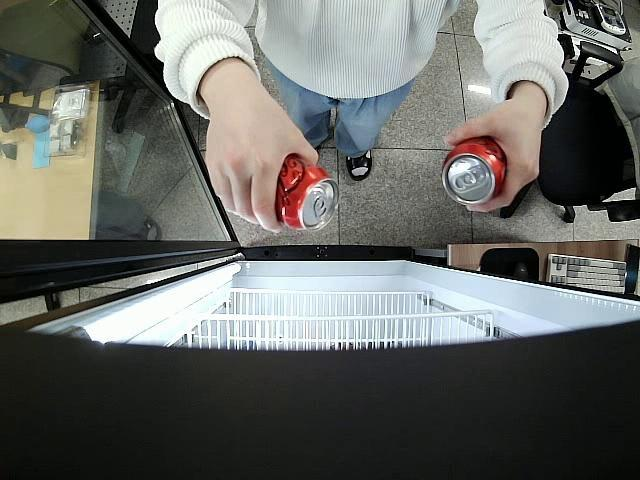11_cocaColaZero: (275, 153, 340, 234), (442, 135, 507, 206)
